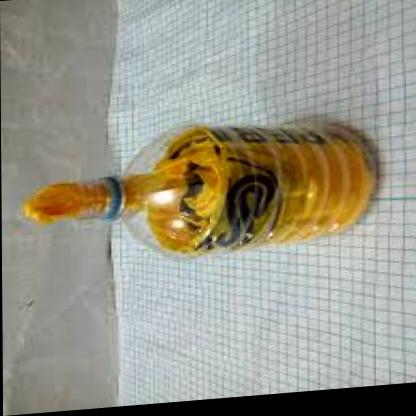Plastic: (82, 83, 381, 276)
